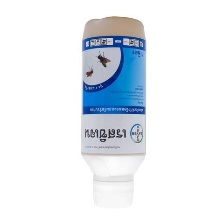insecticide: (77, 14, 148, 212)
